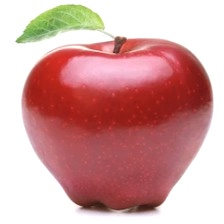apple: (6, 60, 195, 207)
